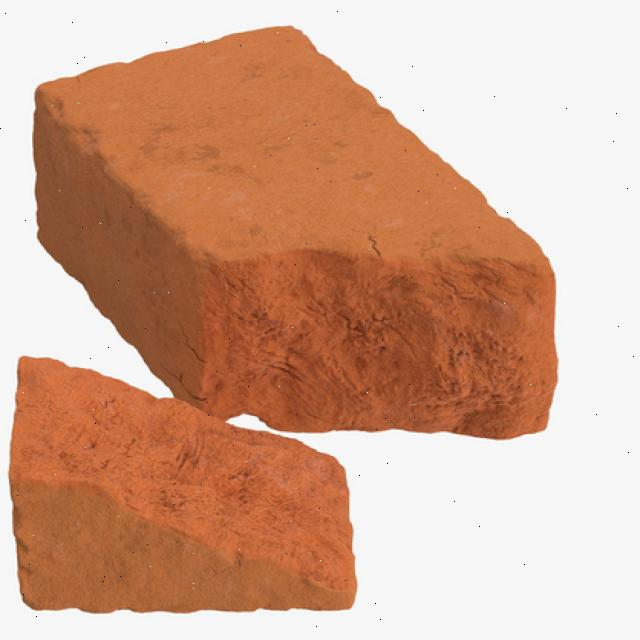bricks_ruin: (32, 20, 557, 437), (10, 356, 361, 616)
